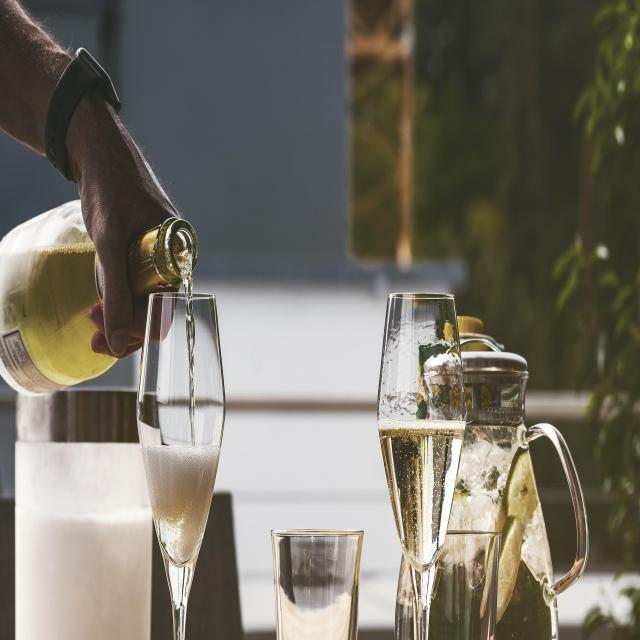Bottle: (0, 201, 114, 393)
